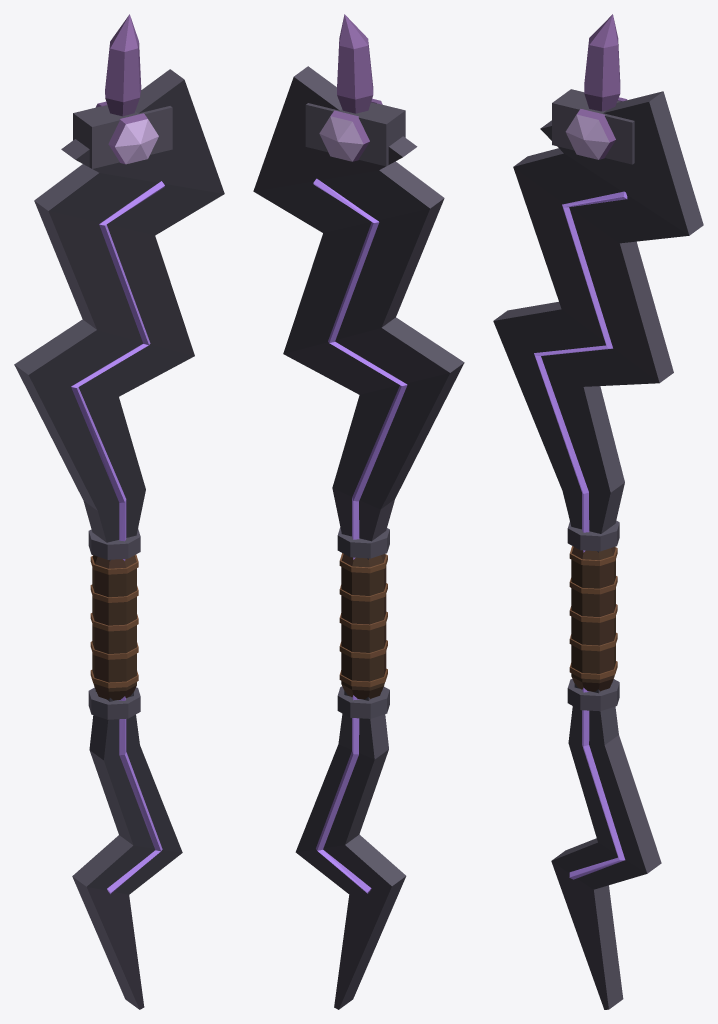
Rendered from weapon_staff_thunder.glb.
3 views of the same model, side by side, from view 1: azimuth 30°, elevation 25°; view 2: azimuth 150°, elevation 25°; view 3: azimuth 330°, elevation 25° (orthographic).
Visible parts, largest first — view 1: weapon_staff_thunder; view 2: weapon_staff_thunder; view 3: weapon_staff_thunder.
Boxes of the visible parts, <box> form: weapon_staff_thunder: <box>14,14,224,1009</box>; weapon_staff_thunder: <box>253,14,464,1009</box>; weapon_staff_thunder: <box>493,14,703,1009</box>.
Size of the model in its own units: 0.4883 by 2.35 by 0.1539.
